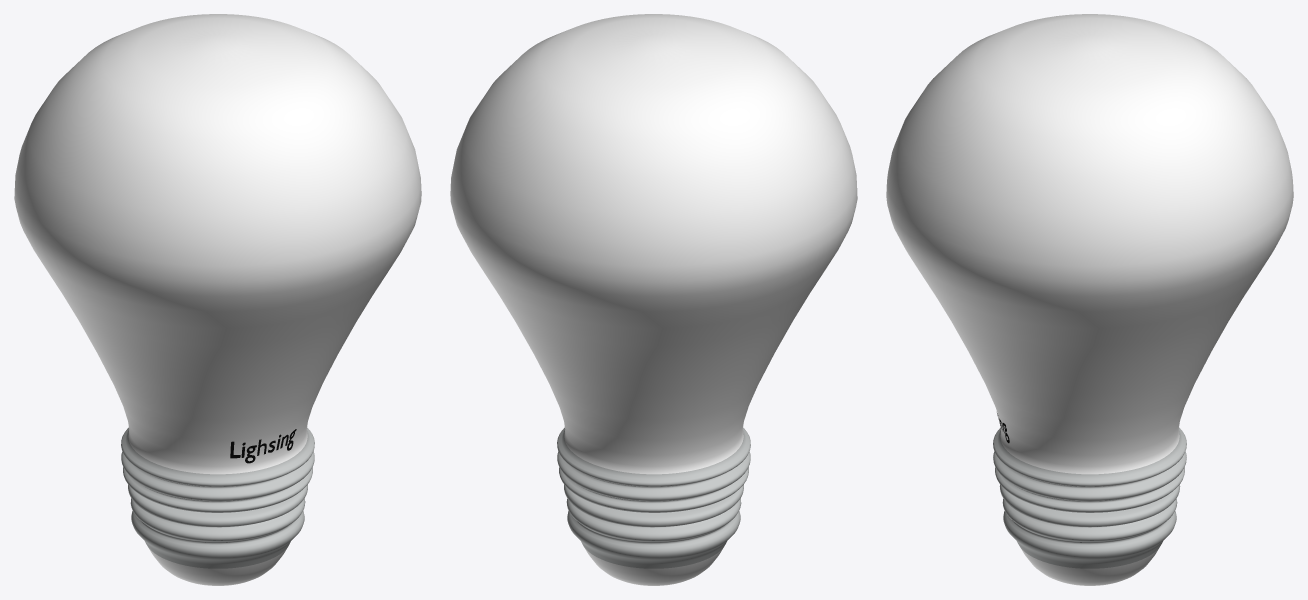
File: plam.fbx
3 views of the same model, side by side, from view 1: azimuth 30°, elevation 25°; view 2: azimuth 150°, elevation 25°; view 3: azimuth 270°, elevation 25° (orthographic).
Parts seen in each view (by area): view 1: Cylinder, Text; view 2: Cylinder; view 3: Cylinder.
Part boxes in pixels (<box>): Cylinder: <box>14,14,421,585</box>; Text: <box>230,429,296,463</box>; Cylinder: <box>450,14,857,585</box>; Cylinder: <box>886,14,1293,585</box>.
Bounding box in the file's own units: 666 × 945 × 666.
Materials: 4 (3 with a texture image).
